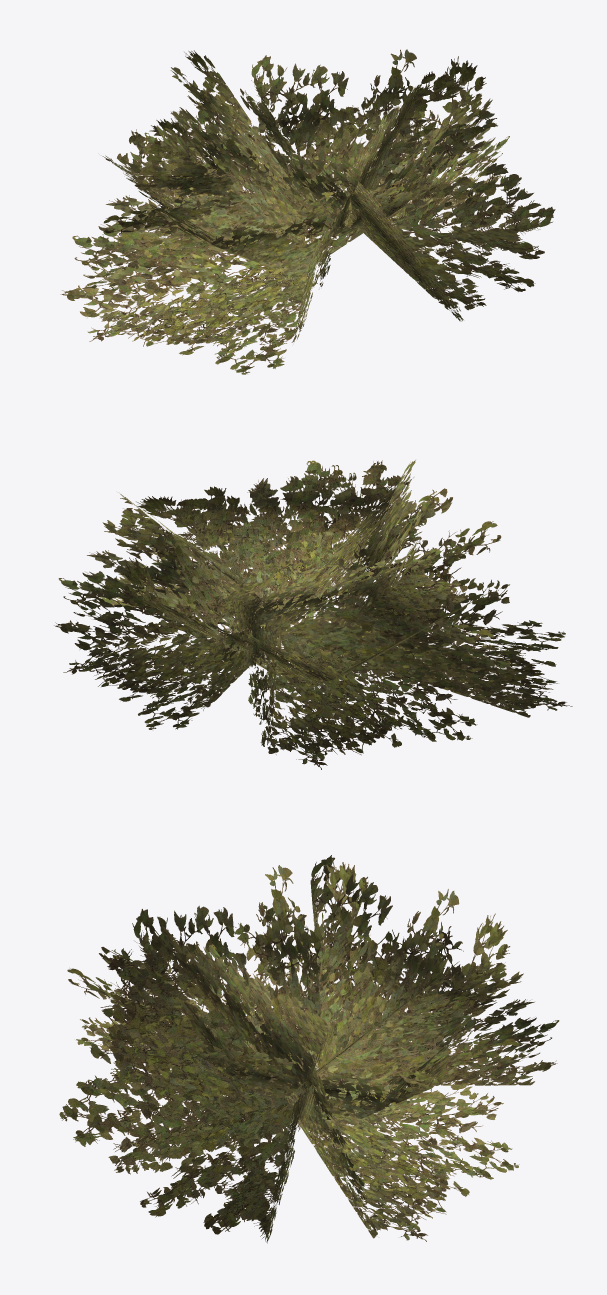
Rendered from shrb_giantlickbush_ltgreen_a1_l2.fbx.
3 views of the same model, one above another, from view 1: azimuth 30°, elevation 25°; view 2: azimuth 150°, elevation 25°; view 3: azimuth 270°, elevation 25° (orthographic). The views are drawn at different scales.
Parts seen in each view (by area): view 1: mesh_node; view 2: mesh_node; view 3: mesh_node.
Part boxes in pixels (left/top/right/bottom): mesh_node: left=60, top=49, right=555, bottom=374; mesh_node: left=54, top=460, right=572, bottom=769; mesh_node: left=59, top=855, right=559, bottom=1243.
Bounding box in the file's own units: 4.75 × 1.65 × 3.8.
